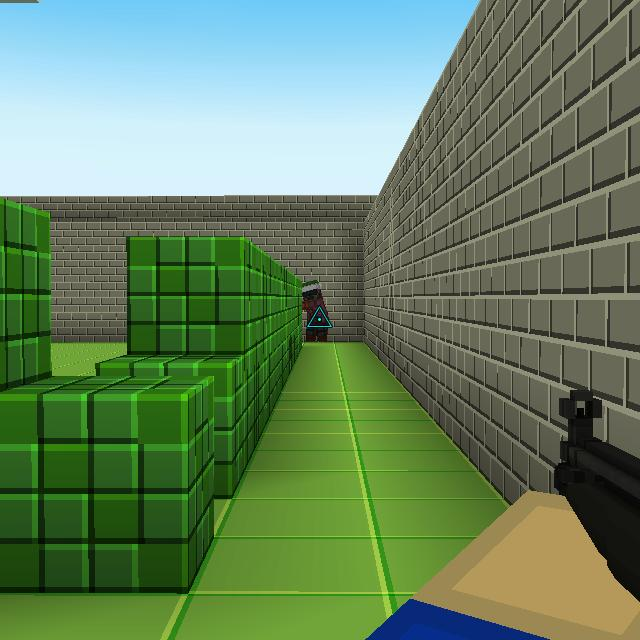enemy: (301, 276, 330, 344)
